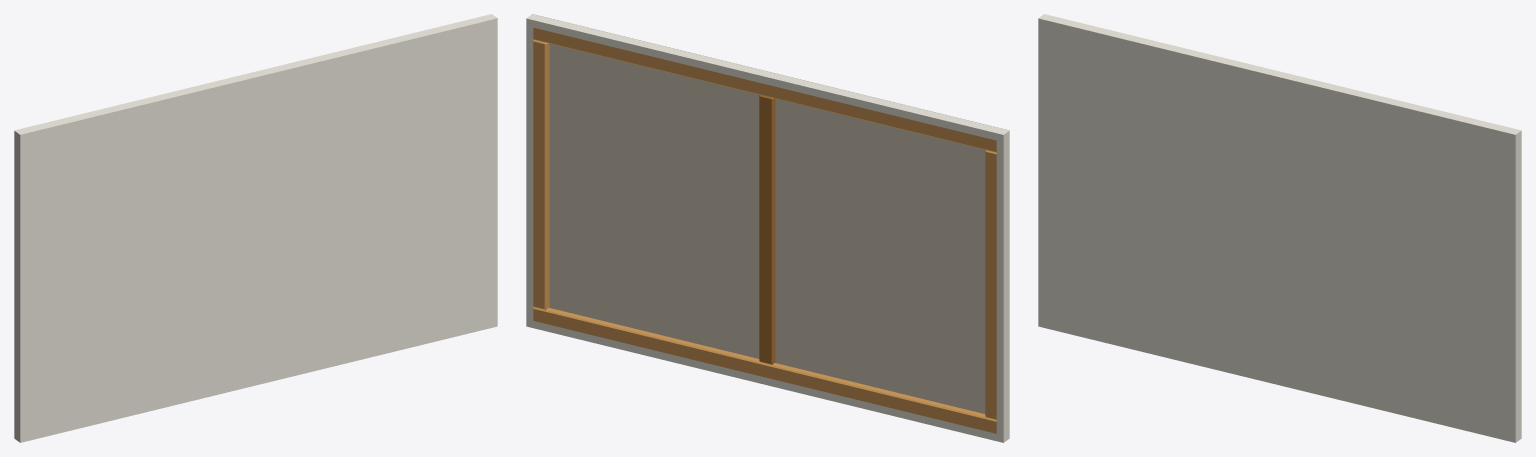
File: canvas_landscape.glb
3 renders of one model, left to right at view 1: azimuth 30°, elevation 25°; view 2: azimuth 150°, elevation 25°; view 3: azimuth 330°, elevation 25°, orthographic.
Parts seen in each view (by area): view 1: CanvasFace, CanvasBack; view 2: CanvasBack; view 3: CanvasFace, CanvasBack.
Part boxes in pixels (bbox=[...]): CanvasFace: bbox=[20, 18, 497, 442]; CanvasBack: bbox=[14, 14, 497, 442]; CanvasBack: bbox=[526, 14, 1009, 442]; CanvasFace: bbox=[1038, 18, 1515, 442]; CanvasBack: bbox=[1038, 14, 1521, 442].
Bounding box in the file's own units: 0.811 × 0.5 × 0.018.
Materials: 2 (1 with a texture image).
